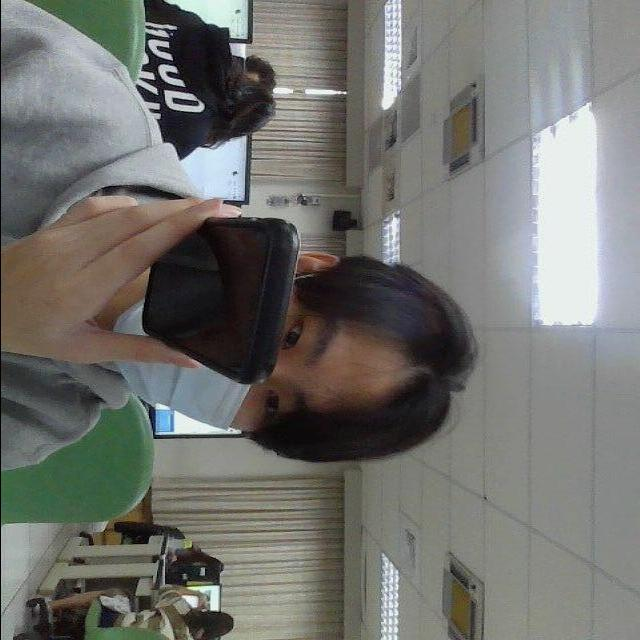ph: (118, 188, 313, 396)
